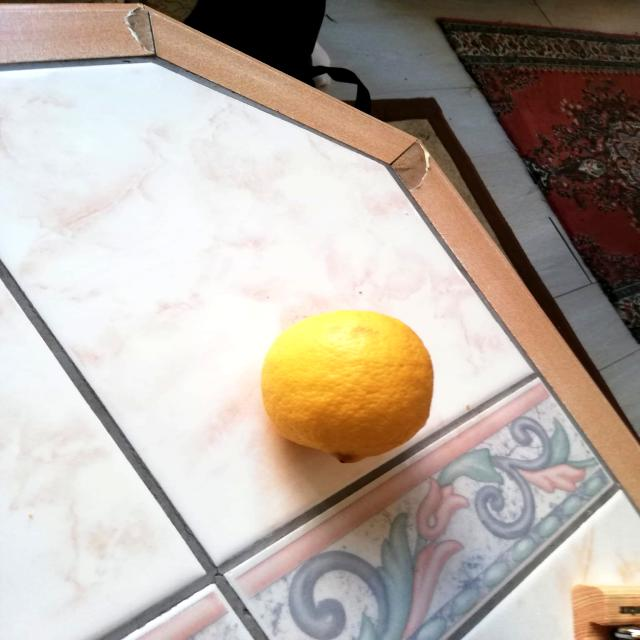lemon: (255, 305, 439, 468)
